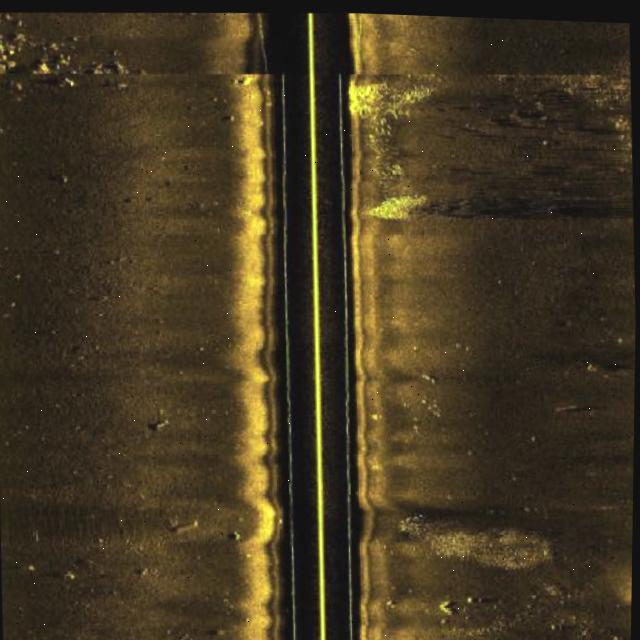mine: (550, 392, 609, 413), (138, 413, 175, 433), (168, 514, 200, 532), (62, 563, 79, 584), (225, 524, 242, 539), (238, 73, 256, 86), (464, 589, 476, 600)
